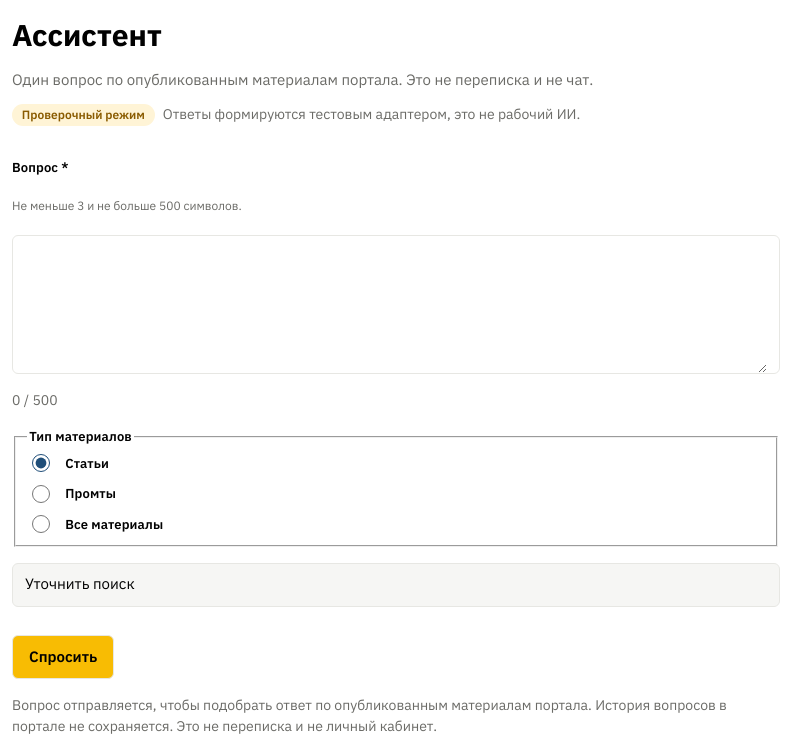
assistant form › shows prompt warning only for prompt and all
The image size is (797, 754).
Click the radio button labelled "Промты" at (41, 494), box [32,484,50,502]
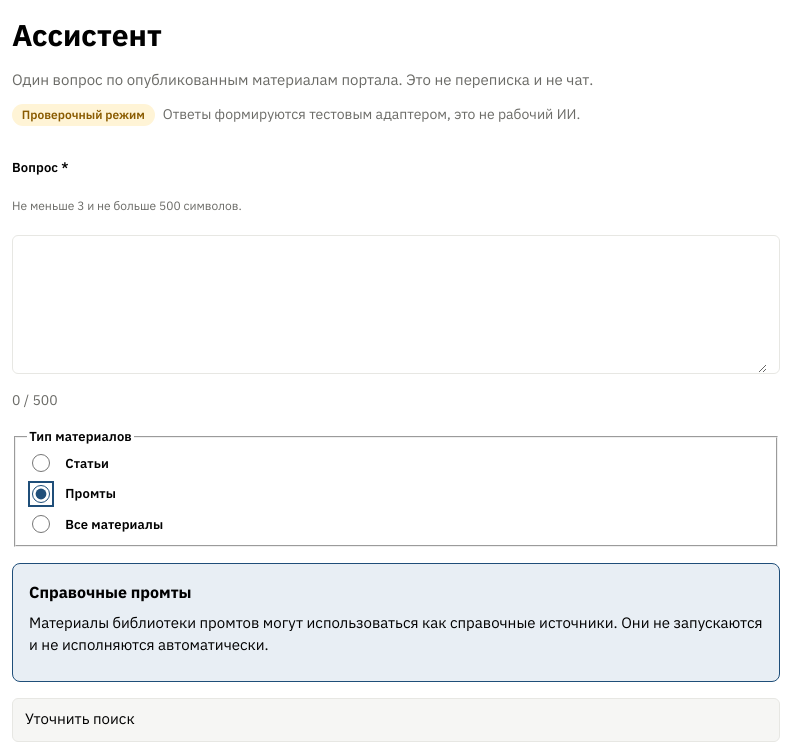
Expected: the text "не запускаются и не исполняются автоматически" is shown, [29,612,762,654]
Click the radio button labelled "Все материалы" at (41, 524), box [32,515,50,533]
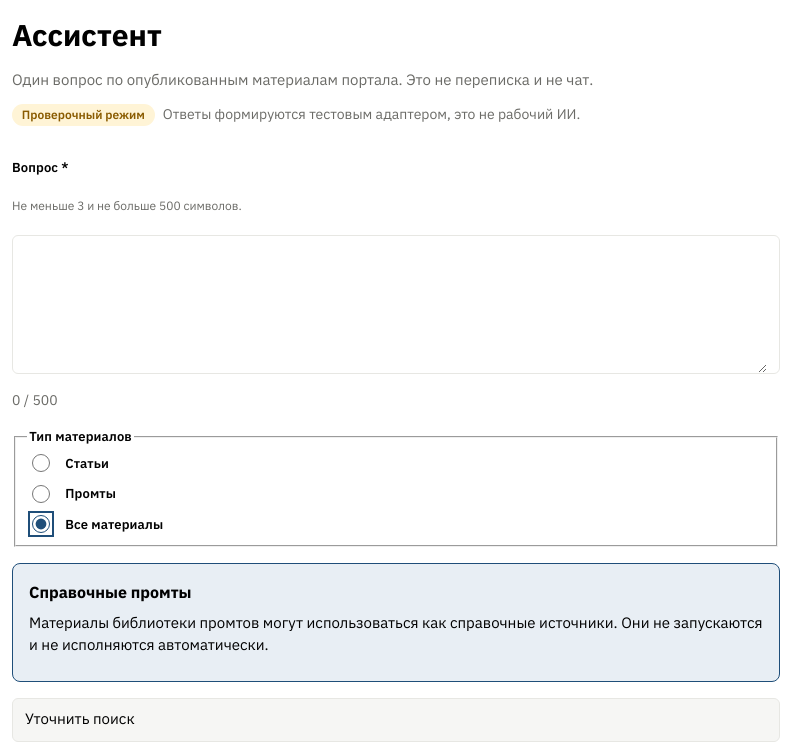
Expected: the text "не запускаются и не исполняются автоматически" is shown, [29,612,762,654]
Click the radio button labelled "Статьи" at (41, 463), box [32,454,50,472]
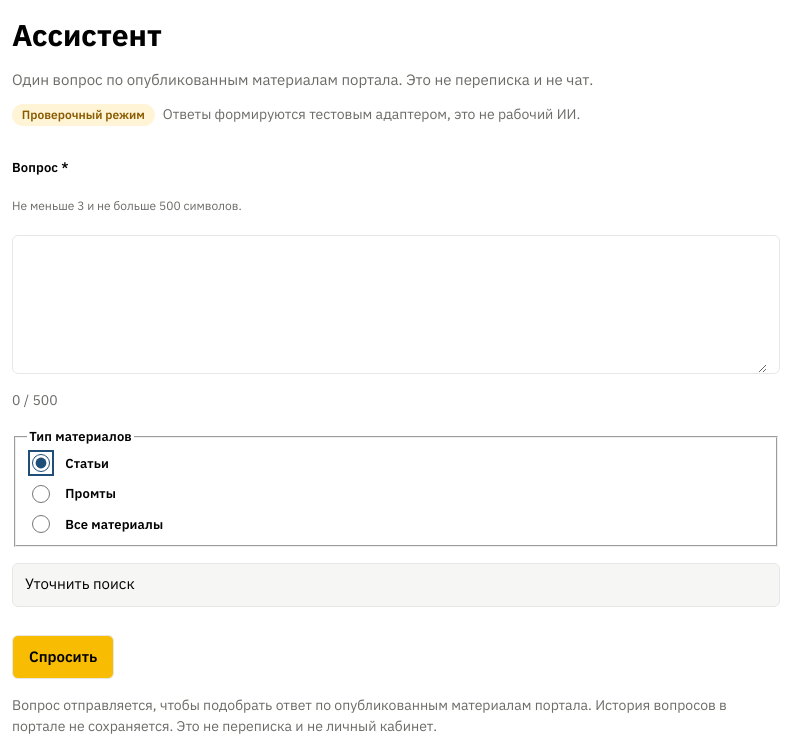
Expected: the text "не запускаются и не исполняются автоматически" is gone
